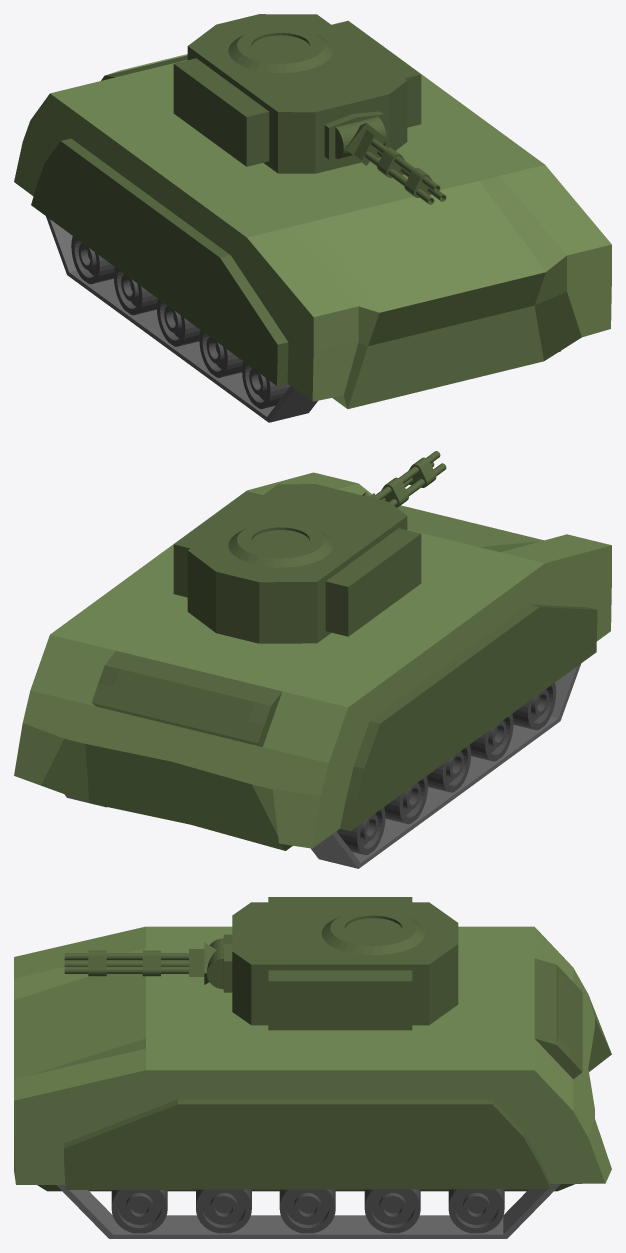
Rendered from tier1.fbx.
3 renders of one model, top to bottom at view 1: azimuth 30°, elevation 25°; view 2: azimuth 150°, elevation 25°; view 3: azimuth 270°, elevation 25°, orthographic.
Parts seen in each view (by area): view 1: Body13, Turret13, Road Wheels13, Tracks13, Main Gun13, ST13; view 2: Body13, Turret13, Road Wheels13, Tracks13, Main Gun13; view 3: Body13, Turret13, Road Wheels13, Tracks13, Main Gun13, ST13.
Boxes of the visible parts, bbox=[...] form: Body13: bbox=[14, 20, 611, 408]; Turret13: bbox=[173, 14, 421, 173]; Road Wheels13: bbox=[71, 236, 290, 409]; Tracks13: bbox=[46, 216, 560, 422]; Main Gun13: bbox=[354, 130, 446, 204]; ST13: bbox=[335, 116, 386, 165]; Body13: bbox=[14, 472, 611, 850]; Turret13: bbox=[173, 484, 421, 643]; Road Wheels13: bbox=[336, 683, 556, 855]; Tracks13: bbox=[64, 663, 581, 868]; Main Gun13: bbox=[370, 451, 446, 507]; Body13: bbox=[14, 926, 611, 1191]; Turret13: bbox=[223, 897, 458, 1030]; Road Wheels13: bbox=[111, 1189, 504, 1233]; Tracks13: bbox=[56, 1184, 560, 1238]; Main Gun13: bbox=[64, 949, 204, 976]; ST13: bbox=[204, 938, 223, 989].
Bounding box in the file's own units: 386 × 281 × 633.
